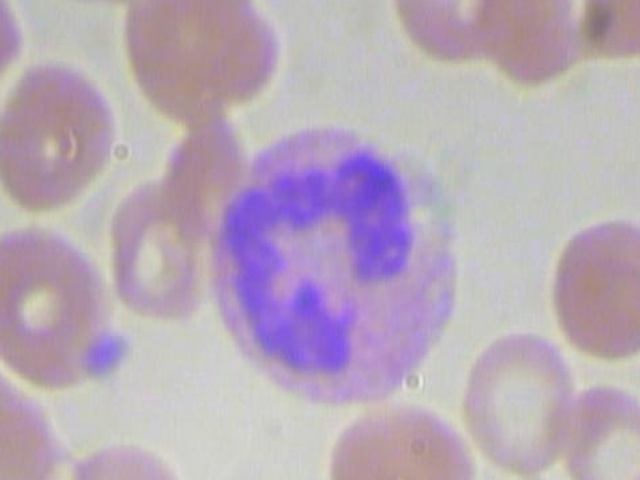Platelets: (83, 321, 136, 389)
RBC: (110, 0, 286, 131), (453, 326, 598, 480), (0, 217, 121, 401), (0, 60, 140, 217), (533, 214, 640, 370), (326, 393, 492, 480), (378, 0, 524, 70), (557, 374, 640, 480), (49, 441, 192, 480), (23, 0, 162, 9)
WBC: (205, 103, 477, 421)
